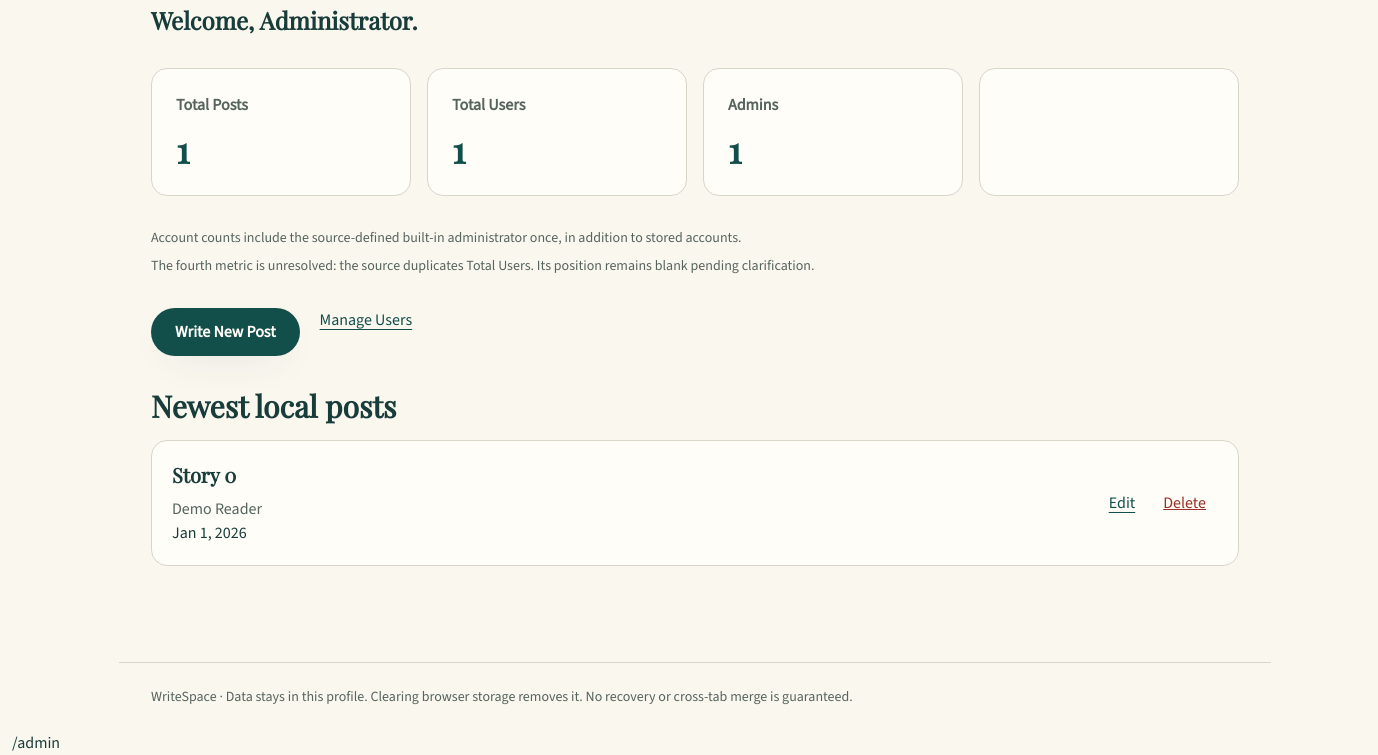
real dashboard and routed controls › refuses inline deletion after persisted posts become missing
(page scrolled)
Click the button with aria-label "Delete Story 0" at (1185, 503), box [1151,481,1218,525]
(page scrolled)
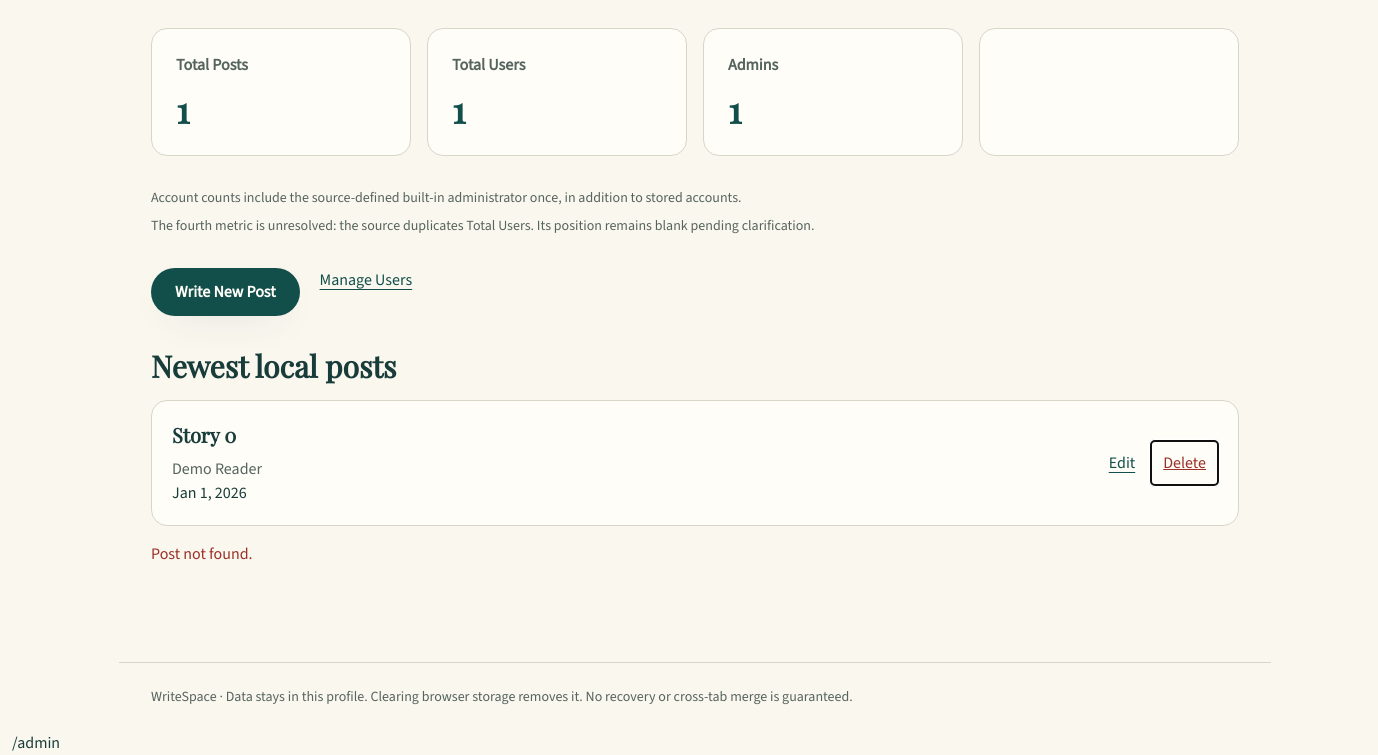
Expected: the text named "Current route" reads "/admin", [12,732,60,753]
Expected: the message shows "Post not found", [151,543,253,564]
